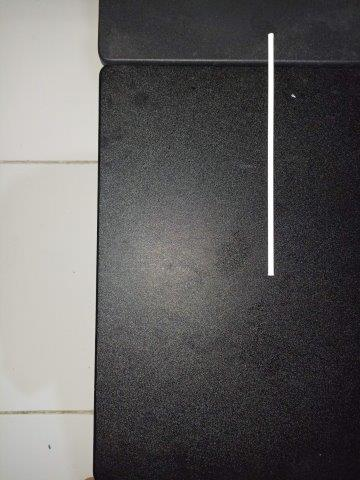sedotan: (267, 33, 274, 276)
